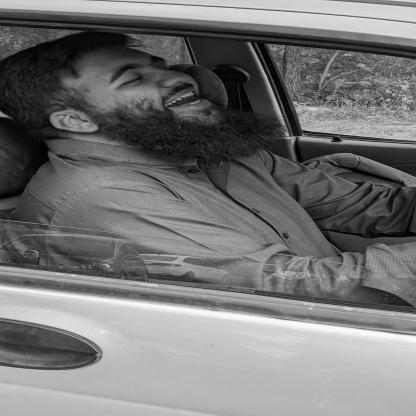no-seatbelt: (0, 39, 343, 259)
